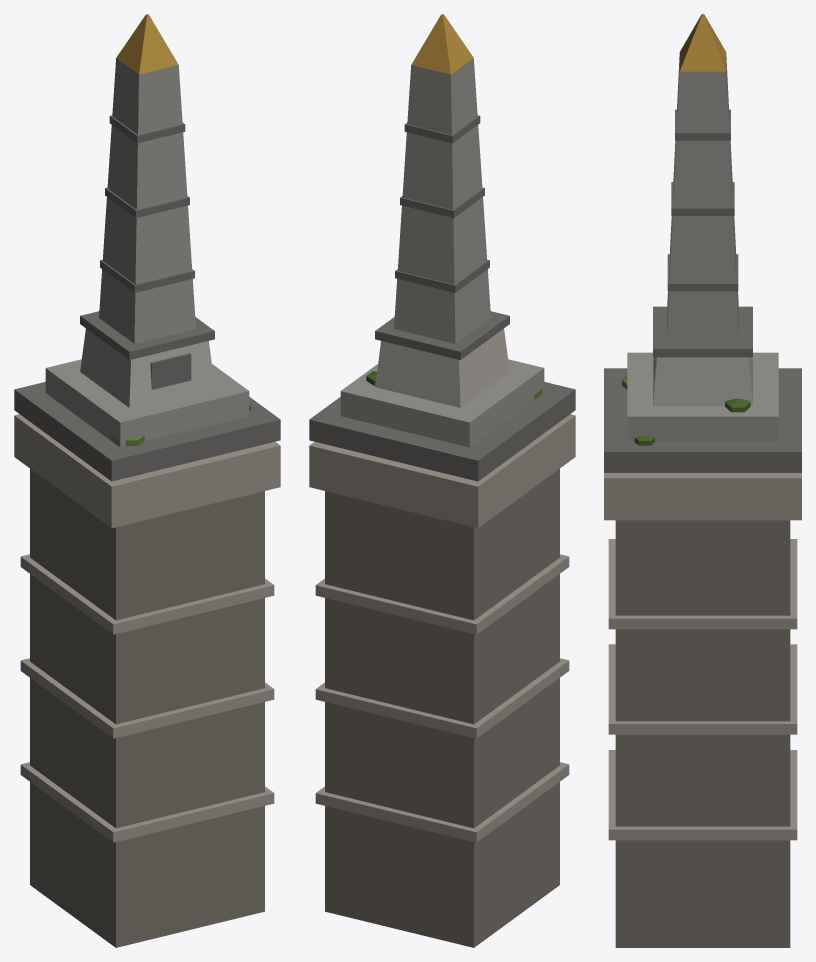
Rendered from decor_obelisk.glb.
The picture shows the model from 3 angles, left to right: view 1: azimuth 30°, elevation 25°; view 2: azimuth 150°, elevation 25°; view 3: azimuth 270°, elevation 25°; orthographic projection.
Parts seen in each view (by area): view 1: decor_obelisk; view 2: decor_obelisk; view 3: decor_obelisk.
Part boxes in pixels (left/top/right/bottom): decor_obelisk: left=14, top=14, right=280, bottom=947; decor_obelisk: left=309, top=14, right=575, bottom=947; decor_obelisk: left=604, top=14, right=801, bottom=947.
Bounding box in the file's own units: 1.7 × 8.5 × 1.7.
